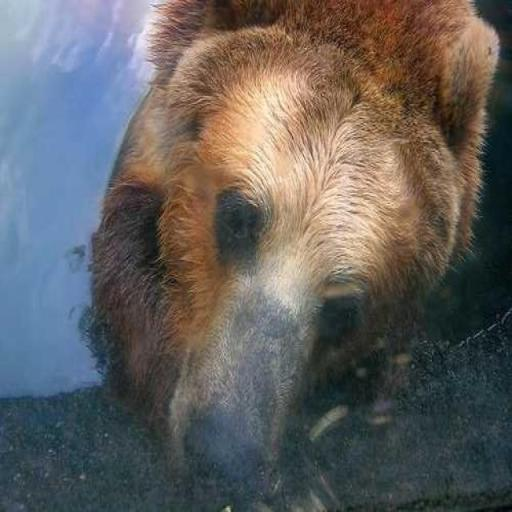Rhino: (85, 0, 501, 508)
